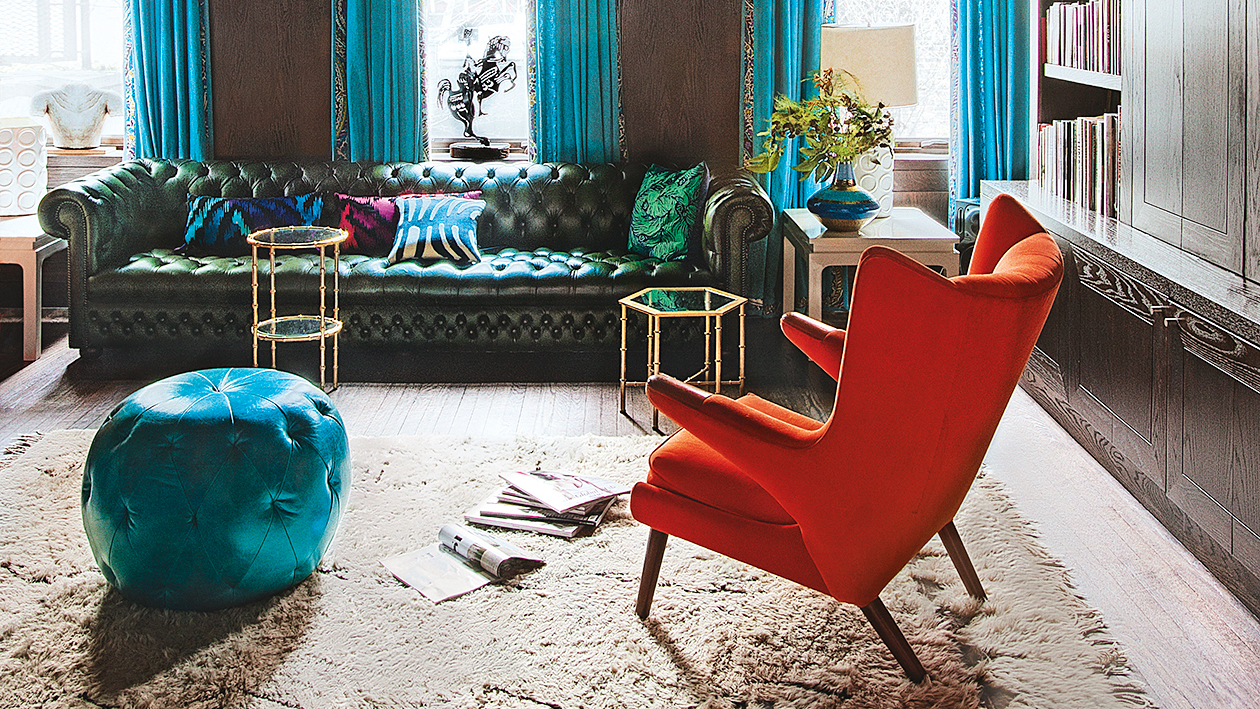biru: (84, 377, 342, 601), (190, 196, 316, 242)
hijau: (633, 165, 705, 256)
orange: (639, 193, 1059, 593)
